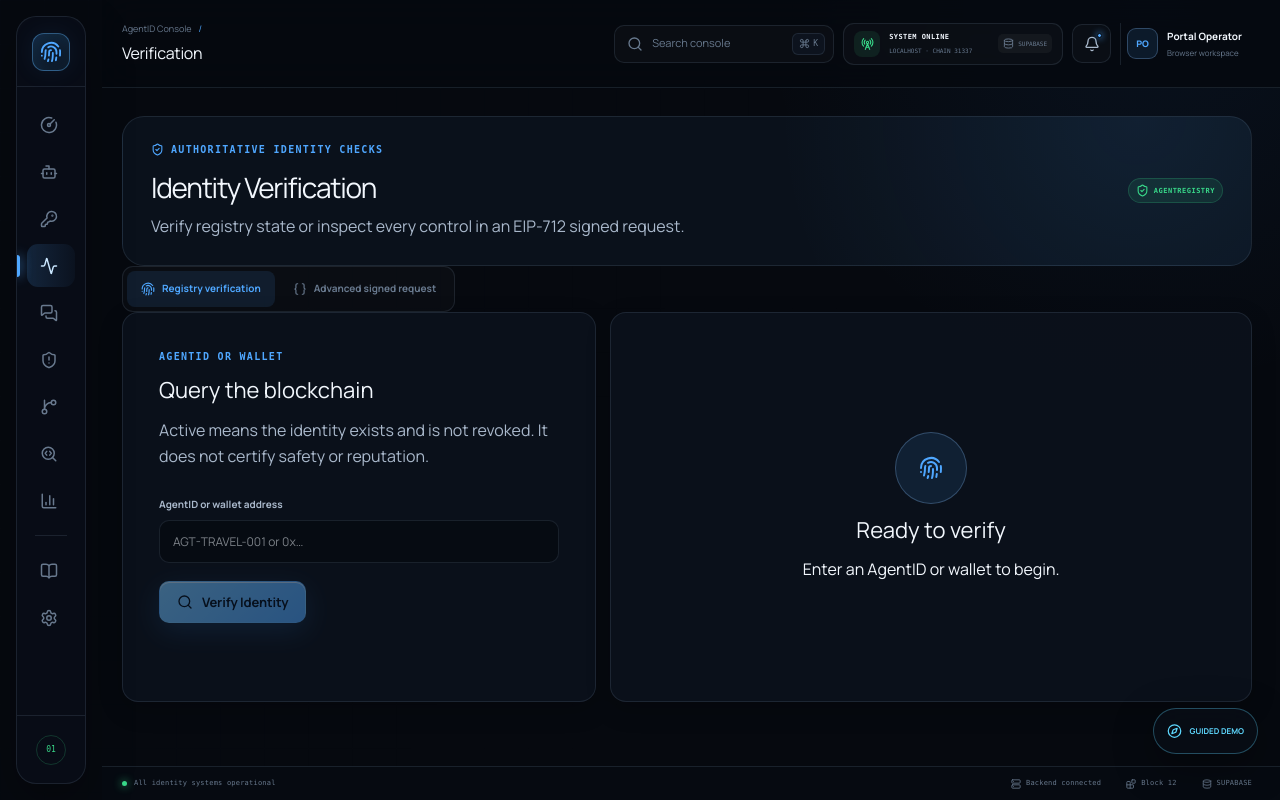
Test: Stage 5 verification and dashboard › renders ACTIVE registry verification
Type "AGT-RESEARCH-001" into the field labelled "AgentID or wallet address" at (359, 542), box [159,520,559,563]
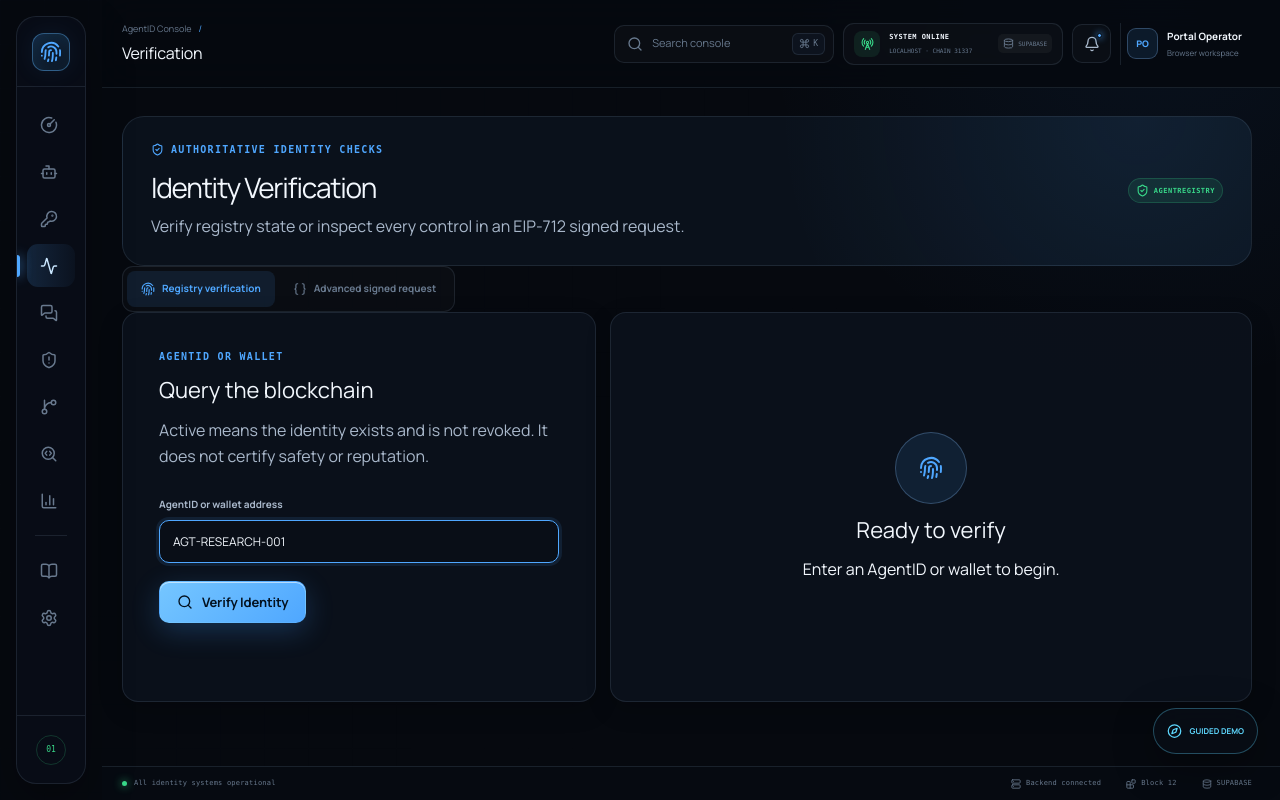
Click the button "Verify Identity" at (233, 602), box [159,581,306,623]
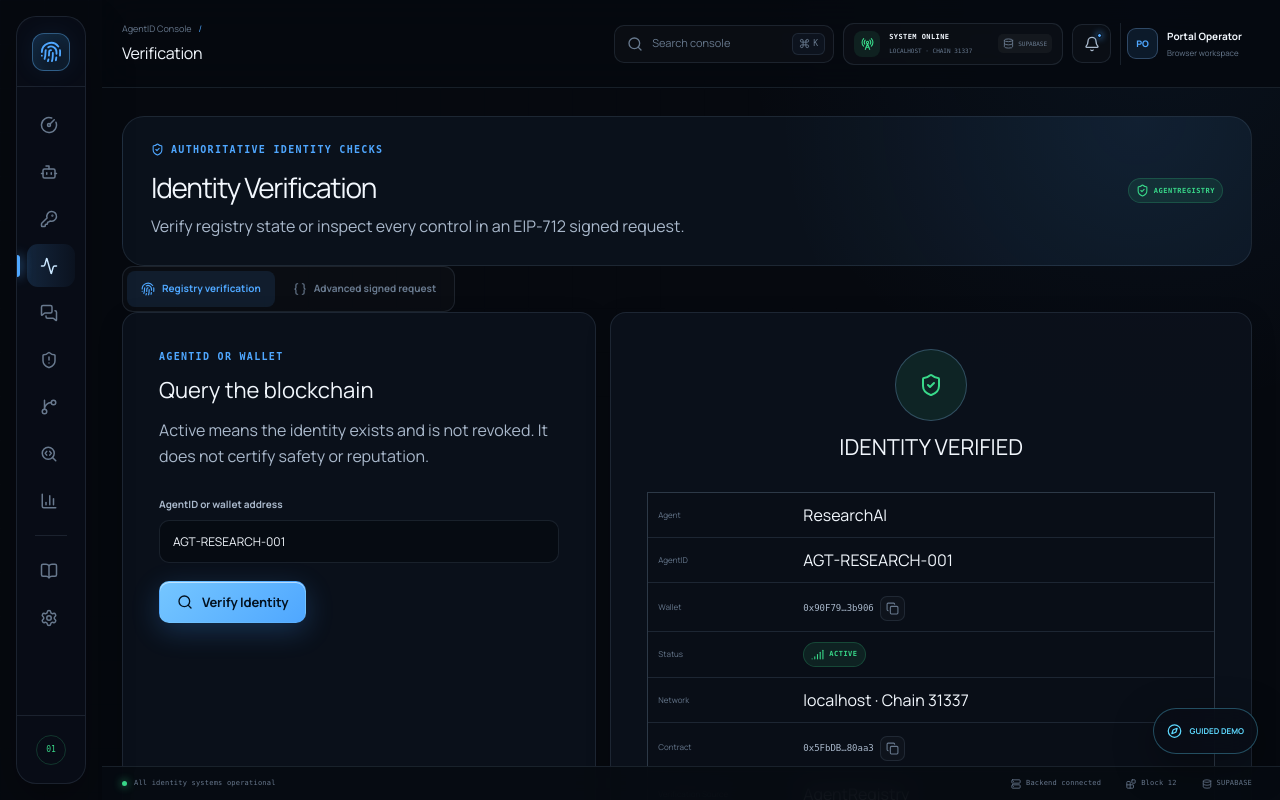
Result: the heading "IDENTITY VERIFIED" is shown at [839,431,1023,464]
